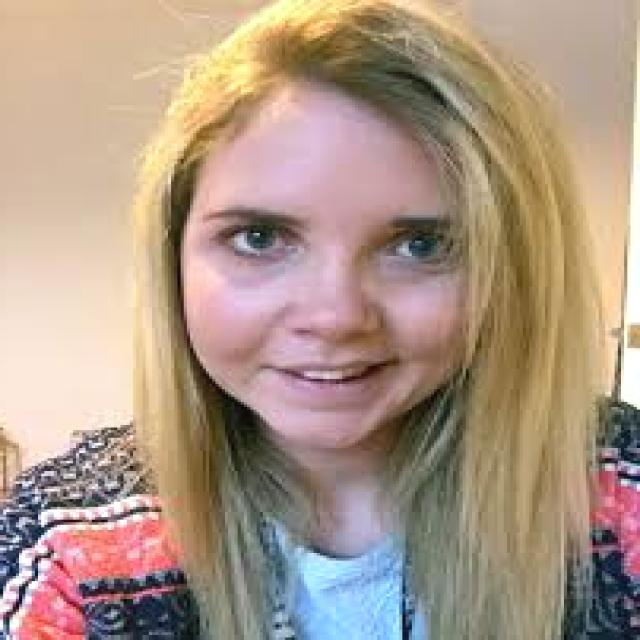stroke_face: (64, 31, 560, 499)
